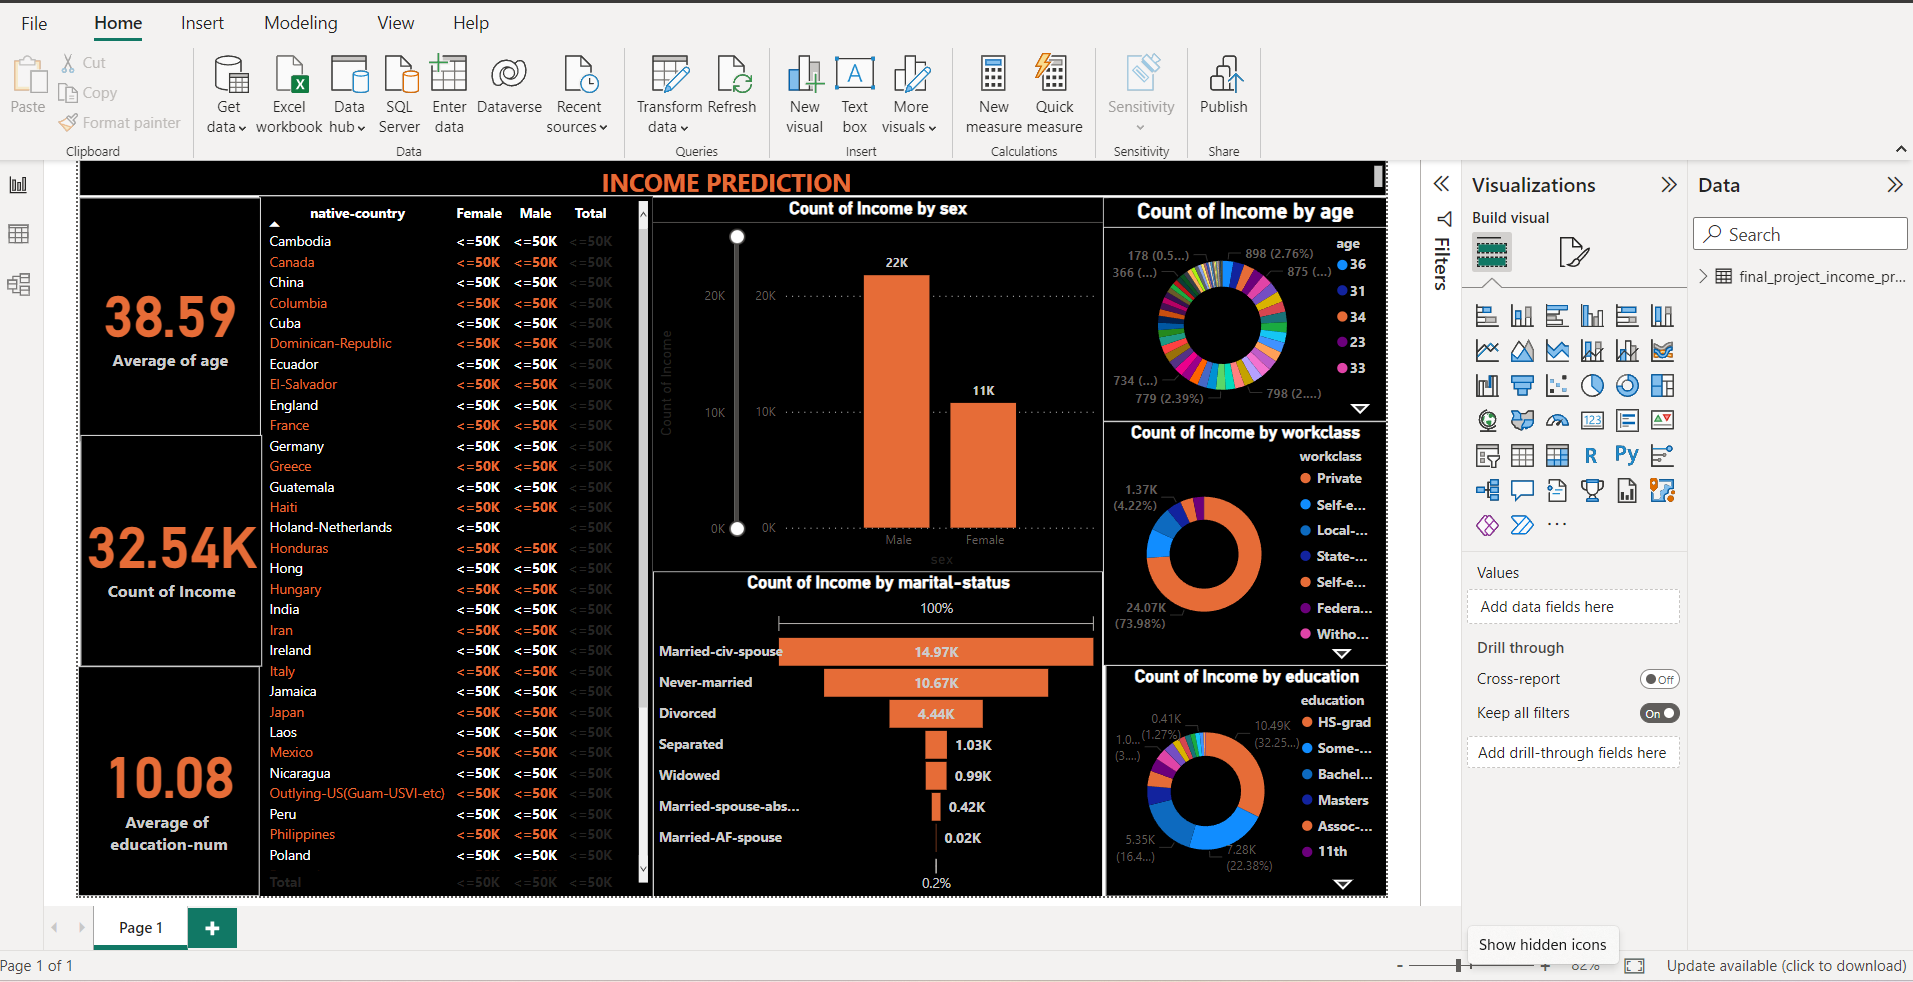

What the dashboard file says about the page in this screenshot:
{"tool":"powerbi","page":{"name":"Page 1","canvas":[1280,720],"ordinal":0},"visuals":[{"type":"donutChart","fields":{"Y":["CountNonNull(final_project_income_prediction.Income)"],"Category":["final_project_income_prediction.age"]},"box":[1002.4,36.7,277.5,218.8],"z":0},{"type":"donutChart","fields":{"Y":["CountNonNull(final_project_income_prediction.Income)"],"Category":["final_project_income_prediction.workclass"]},"box":[1002.4,255.5,277.5,239.6],"z":1000},{"type":"donutChart","fields":{"Category":["final_project_income_prediction.education"],"Y":["CountNonNull(final_project_income_prediction.Income)"]},"box":[1004.8,493.9,275,226.1],"z":2000},{"type":"funnel","fields":{"Y":["CountNonNull(final_project_income_prediction.Income)"],"Category":["final_project_income_prediction.marital-status"]},"box":[562.3,402.2,440.1,319],"z":3000},{"type":"pivotTable","fields":{"Rows":["final_project_income_prediction.native-country"],"Columns":["final_project_income_prediction.sex"],"Values":["Min(final_project_income_prediction.Income)"]},"box":[177.2,35.4,385.1,684.6],"z":4000},{"type":"columnChart","fields":{"Category":["final_project_income_prediction.sex"],"Y":["CountNonNull(final_project_income_prediction.Income)"]},"box":[562.3,36.7,440.1,365.5],"z":5000},{"type":"card","fields":{"Values":["Avg(final_project_income_prediction.age)"]},"box":[1.2,36.7,177.2,239.6],"z":5001},{"type":"card","fields":{"Values":["CountNonNull(final_project_income_prediction.Income)"]},"box":[2.4,268.9,177.2,226.1],"z":5002},{"type":"card","fields":{"Values":["Avg(final_project_income_prediction.education-num)"]},"box":[0,495.1,177.2,224.9],"z":5003},{"type":"textbox","box":[1.2,0,1278.6,35.4],"z":5004}]}

Visuals, with their boxes on the page's 1280x720 design canvas (x1, y1, x2, y2). These are canvas units, not pixel positions in the 1913x982 screenshot, which may show the page scaled, cropped or inside an application window:
donutChart - CountNonNull(final_project_income_prediction.Income) x final_project_income_prediction.age: [left=1002, top=37, right=1280, bottom=256]
donutChart - CountNonNull(final_project_income_prediction.Income) x final_project_income_prediction.workclass: [left=1002, top=256, right=1280, bottom=495]
donutChart - final_project_income_prediction.education x CountNonNull(final_project_income_prediction.Income): [left=1005, top=494, right=1280, bottom=720]
funnel - CountNonNull(final_project_income_prediction.Income) x final_project_income_prediction.marital-status: [left=562, top=402, right=1002, bottom=721]
pivotTable - final_project_income_prediction.native-country x final_project_income_prediction.sex: [left=177, top=35, right=562, bottom=720]
columnChart - final_project_income_prediction.sex x CountNonNull(final_project_income_prediction.Income): [left=562, top=37, right=1002, bottom=402]
card - Avg(final_project_income_prediction.age): [left=1, top=37, right=178, bottom=276]
card - CountNonNull(final_project_income_prediction.Income): [left=2, top=269, right=180, bottom=495]
card - Avg(final_project_income_prediction.education-num): [left=0, top=495, right=177, bottom=720]
textbox: [left=1, top=0, right=1280, bottom=35]
